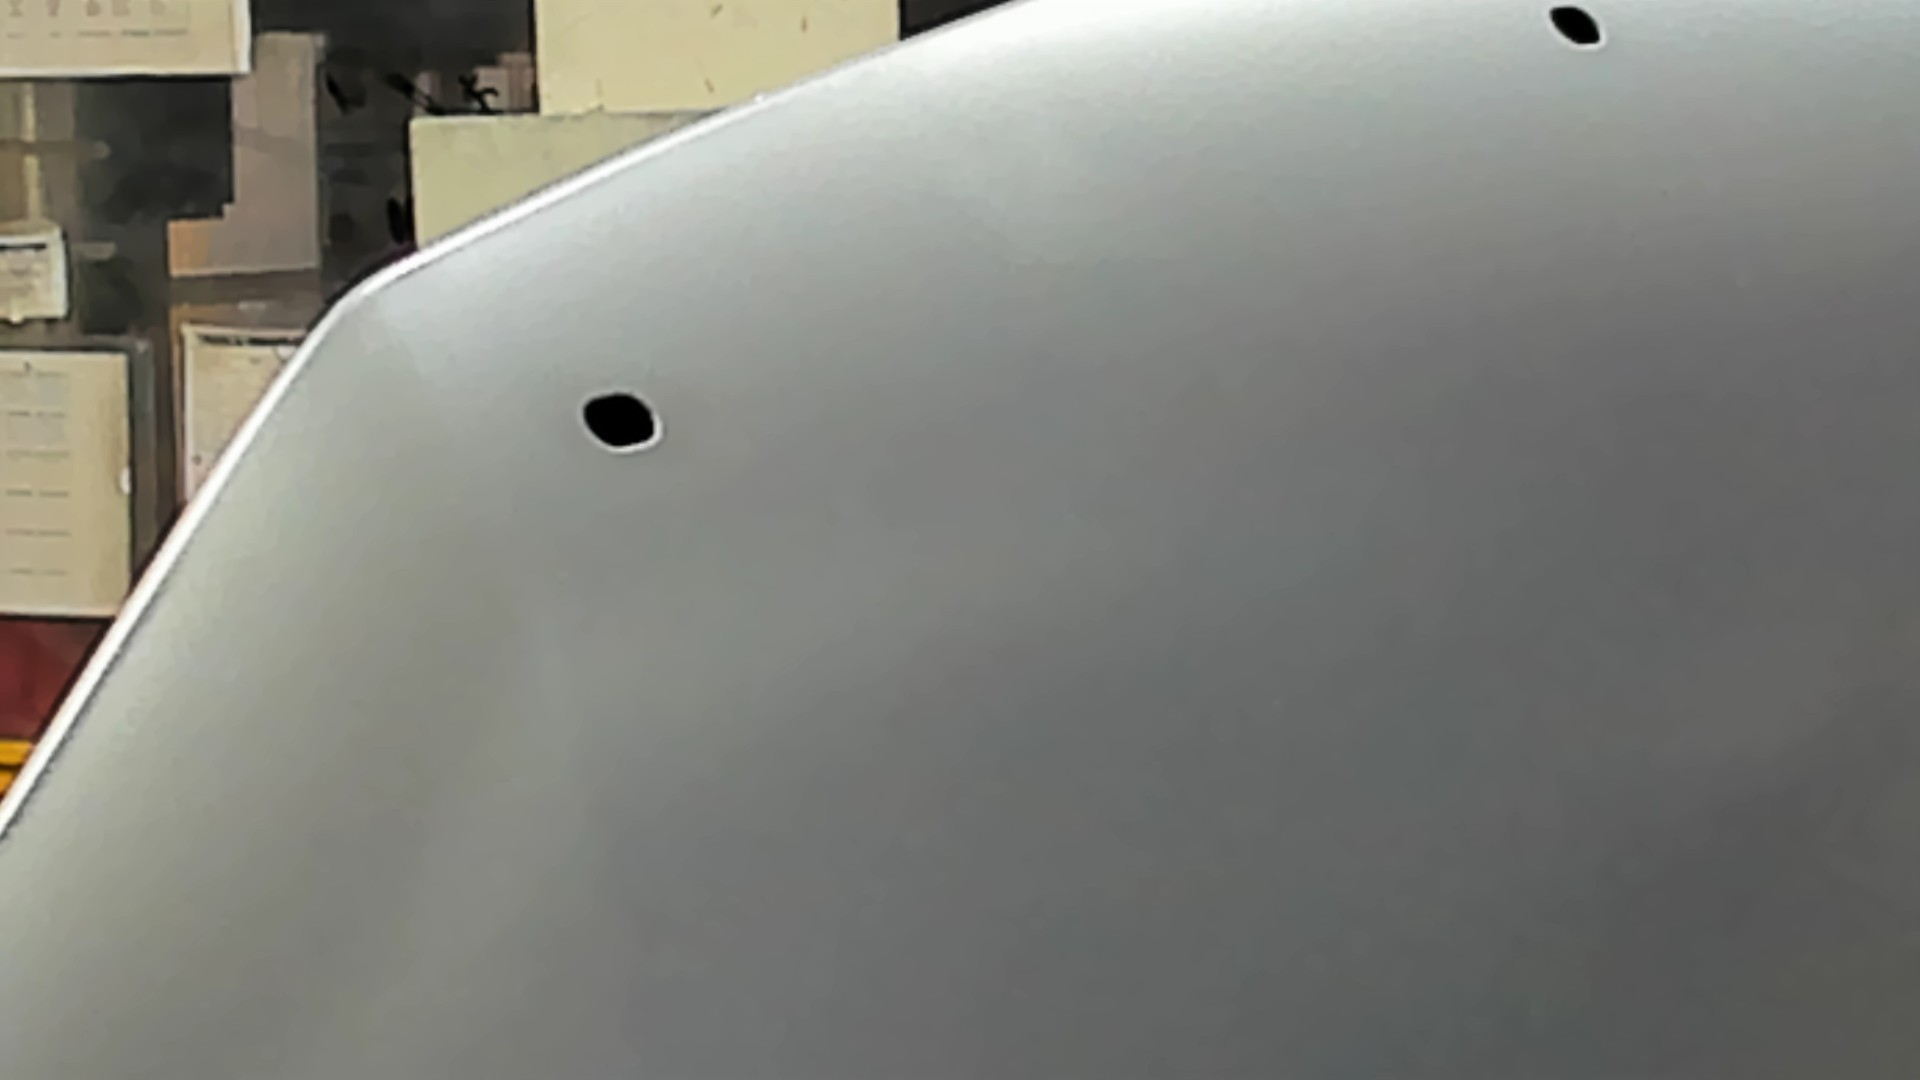amorfo: (574, 392, 673, 459), (1545, 1, 1602, 54)
